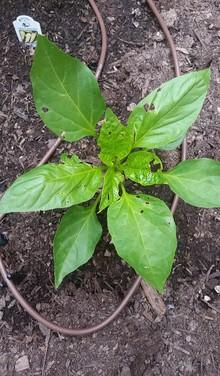Bell_pepper leaf: (28, 30, 105, 140), (108, 187, 178, 297), (127, 66, 212, 152), (1, 159, 103, 226), (95, 107, 130, 168), (118, 152, 176, 185)
